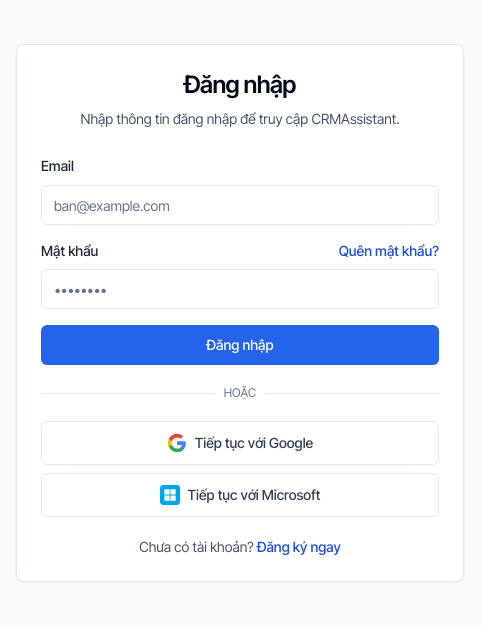
Test: Auth pages › shows login validation errors linked to fields
Click the button "Đăng nhập": (240, 345) [41,325,439,365]
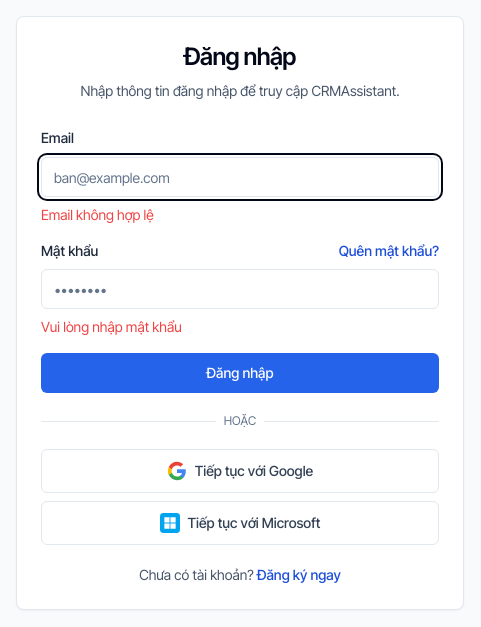
expect the text "Email không hợp lệ" is shown: met, box [41,206,154,223]
